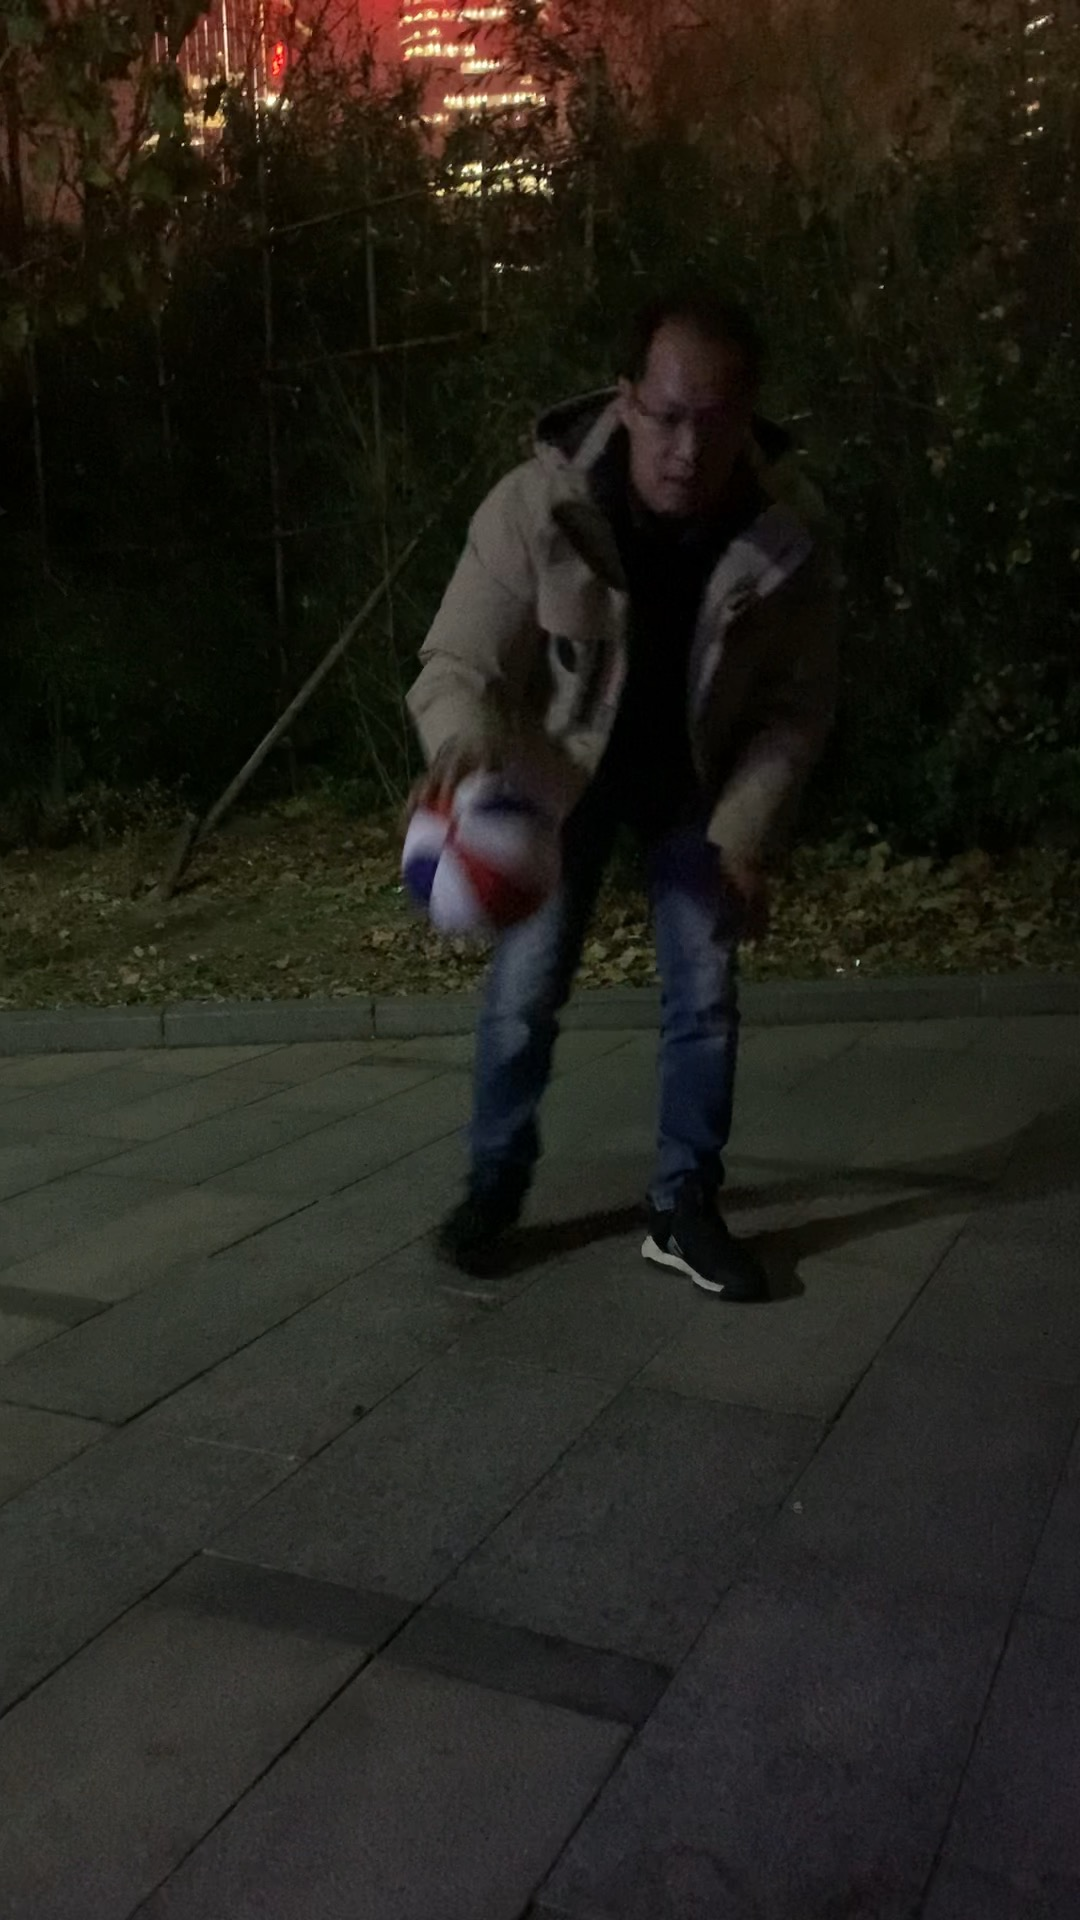ball: (397, 765, 562, 934)
